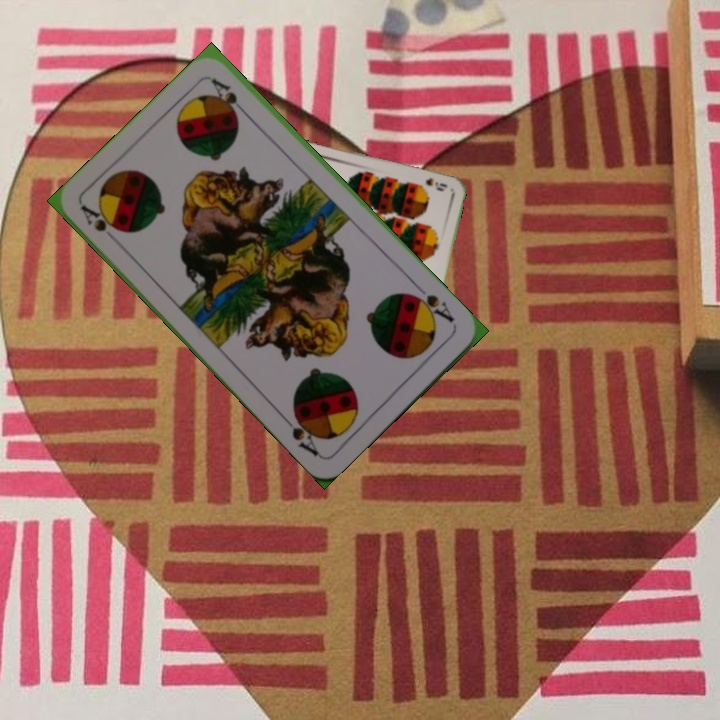S9: (422, 173, 450, 194)
SA: (406, 289, 457, 325), (76, 200, 124, 236)
